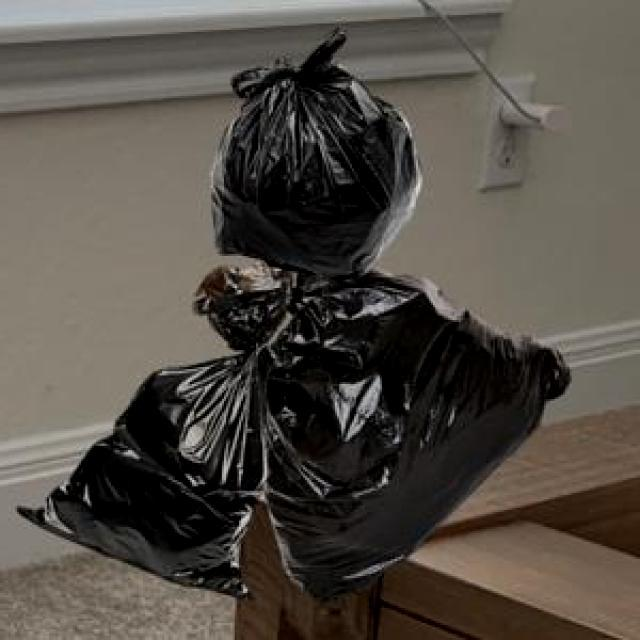Trashbag: (272, 263, 564, 600), (6, 348, 277, 610), (209, 44, 423, 278)
